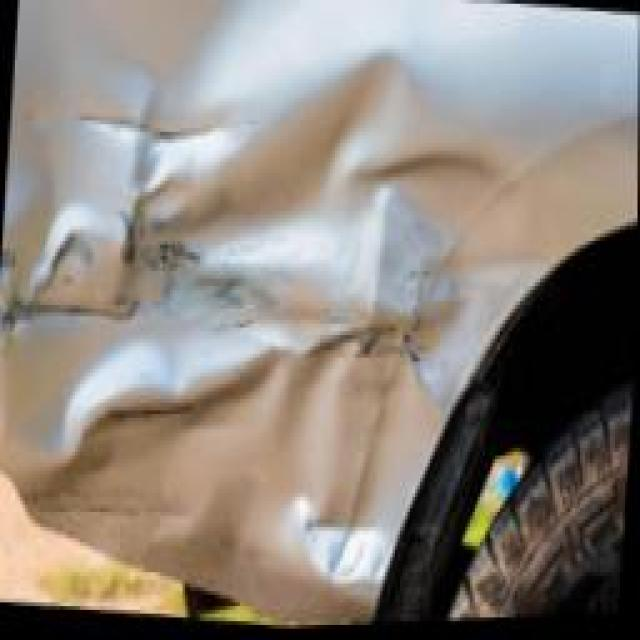Bumper: (0, 0, 569, 627)
